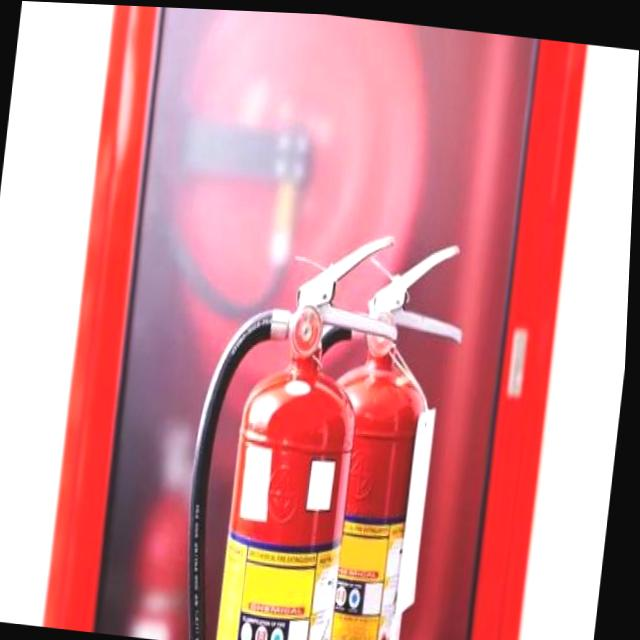FireExtinguisher: (174, 203, 415, 640), (248, 210, 479, 640)
